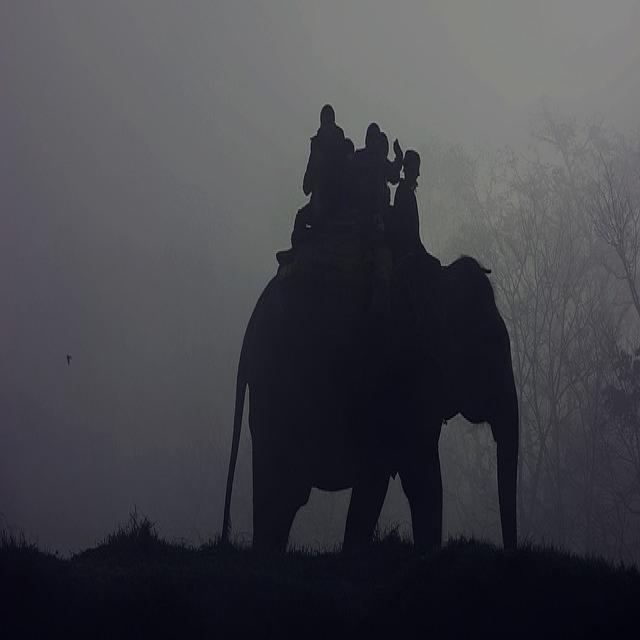elephant: (222, 151, 519, 549)
